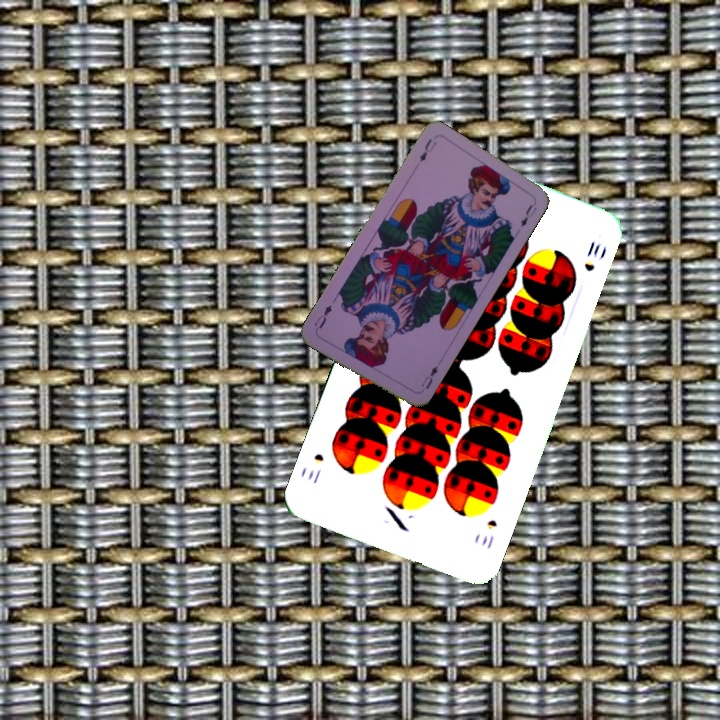EU: (417, 359, 443, 392), (415, 135, 439, 164)
S10: (477, 515, 500, 552)
